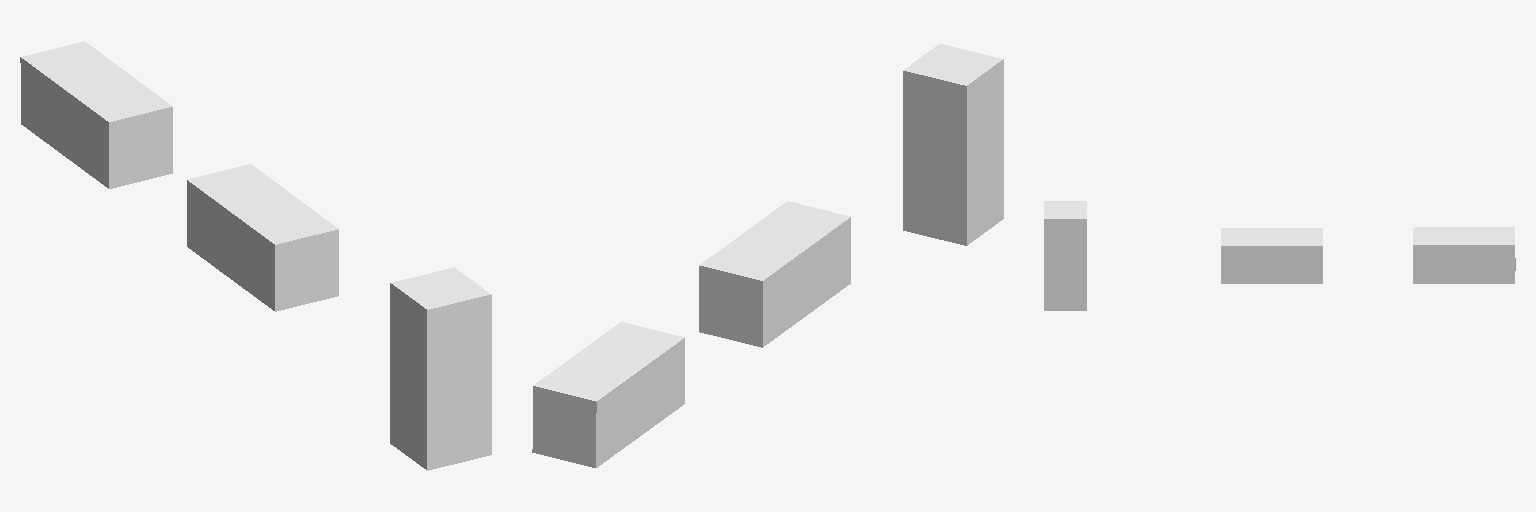
URDF robot description (mobile_manipulator):
<?xml version="1.0" encoding="utf-8"?>
<!-- =================================================================================== -->
<!-- |    This document was autogenerated by xacro from manipulator.xacro              | -->
<!-- |    EDITING THIS FILE BY HAND IS NOT RECOMMENDED                                 | -->
<!-- =================================================================================== -->
<robot name="mobile_manipulator">
  <material name="white">
    <color rgba="1 1 1 1"/>
  </material>
  <!-- MACROS -->
  <!-- LINKS -->
  <link name="base_link">
    <inertial>
      <origin rpy="0 0 0" xyz="0 0 0"/>
      <mass value="0.00048"/>
      <inertia ixx="0.000050799110" ixy="0.0" ixz="0.0" iyy="0.00002857215" iyz="0.00000051457" izz="0.000043394"/>
    </inertial>
    <visual>
      <origin rpy="0 0 0" xyz="0 0 0"/>
      <geometry>
        <box size="0.04 0.04 0.096"/>
      </geometry>
      <material name="white"/>
    </visual>
    <collision>
      <origin rpy="0 0 0" xyz="0 0 0"/>
      <geometry>
        <box size="0.04 0.04 0.096"/>
      </geometry>
    </collision>
  </link>
  <link name="shoulder_yaw_motor">
    <inertial>
      <origin rpy="0 0 0 " xyz="0 0 0.0205"/>
      <mass value="0.140"/>
      <inertia ixx="0.000050799110" ixy="0.0" ixz="0.0" iyy="0.00002857215" iyz="0.00000051457" izz="0.000043394"/>
    </inertial>
    <visual>
      <origin rpy="0 0 0 " xyz="0 0 0.0205"/>
      <geometry>
        <mesh filename="package://mobile_manipulator/meshes/dynamixel_x64series.stl" scale="0.001 0.001 0.001"/>
      </geometry>
      <material name="white"/>
    </visual>
    <collision>
      <origin rpy="0 0 0" xyz="0 0 0.0205"/>
      <geometry>
        <mesh filename="package://mobile_manipulator/meshes/dynamixel_x64series.stl" scale="0.001 0.001 0.001"/>
      </geometry>
    </collision>
  </link>
  <link name="shoulder_pitch_motor">
    <inertial>
      <origin rpy="0 0 0" xyz="0 0.0481 0"/>
      <mass value="0.140"/>
      <inertia ixx="0.000050799110" ixy="0.0" ixz="0.0" iyy="0.00002857215" iyz="0.00000051457" izz="0.000043394"/>
    </inertial>
    <visual>
      <origin rpy="0.0 0.0 0" xyz="0 0.0481 0"/>
      <geometry>
        <mesh filename="package://mobile_manipulator/meshes/dynamixel_x64series.stl" scale="0.001 0.001 0.001"/>
      </geometry>
      <material name="white"/>
    </visual>
    <collision>
      <origin rpy="0 0 0" xyz="0 0.0481 0"/>
      <geometry>
        <mesh filename="package://mobile_manipulator/meshes/dynamixel_x64series.stl" scale="0.001 0.001 0.001"/>
      </geometry>
    </collision>
  </link>
  <link name="shoulder_bracket">
    <inertial>
      <origin rpy="0 0 0 " xyz="0 0 0.036"/>
      <mass value="0.00712"/>
      <inertia ixx="0.00000174511" ixy="0.0" ixz="0.0" iyy="0.00000379922" iyz="0.0" izz="0.00000357521"/>
    </inertial>
    <visual>
      <origin rpy="0 0 0 " xyz="0 0 0.036"/>
      <geometry>
        <mesh filename="package://mobile_manipulator/meshes/FR05-H101K.stl" scale="0.001 0.001 0.001"/>
      </geometry>
      <material name="white"/>
    </visual>
    <collision>
      <origin rpy="0 0 0 " xyz="0 0 0.036"/>
      <geometry>
        <mesh filename="package://mobile_manipulator/meshes/FR05-H101K.stl" scale="0.001 0.001 0.001"/>
      </geometry>
    </collision>
  </link>
  <link name="biscep">
    <inertial>
      <origin rpy="0 0 0" xyz="0 0 0.048"/>
      <mass value="0.00048"/>
      <inertia ixx="0.000050799110" ixy="0.0" ixz="0.0" iyy="0.00002857215" iyz="0.00000051457" izz="0.000043394"/>
    </inertial>
    <visual>
      <origin rpy="0 0 0" xyz="0 0 0.048"/>
      <geometry>
        <box size="0.04 0.04 0.096"/>
      </geometry>
      <material name="white"/>
    </visual>
    <collision>
      <origin rpy="0 0 0" xyz="0 0 0.048"/>
      <geometry>
        <box size="0.04 0.04 0.096"/>
      </geometry>
    </collision>
  </link>
  <link name="elbow_motor">
    <inertial>
      <origin rpy="0 0 0" xyz="0 0.0481 0"/>
      <mass value="0.140"/>
      <inertia ixx="0.000050799110" ixy="0.0" ixz="0.0" iyy="0.00002857215" iyz="0.00000051457" izz="0.000043394"/>
    </inertial>
    <visual>
      <origin rpy="0 0 0" xyz="0 0.0481 0"/>
      <geometry>
        <mesh filename="package://mobile_manipulator/meshes/dynamixel_x64series.stl" scale="0.001 0.001 0.001"/>
      </geometry>
      <material name="white"/>
    </visual>
    <collision>
      <origin rpy="0 0 0" xyz="0 0.0481 0"/>
      <geometry>
        <mesh filename="package://mobile_manipulator/meshes/dynamixel_x64series.stl" scale="0.001 0.001 0.001"/>
      </geometry>
    </collision>
  </link>
  <link name="elbow_bracket">
    <inertial>
      <origin rpy="0 0 0" xyz="0 0 0.036"/>
      <mass value="0.00712"/>
      <inertia ixx="0.00000174511" ixy="0.0" ixz="0.0" iyy="0.00000379922" iyz="0.0" izz="0.00000357521"/>
    </inertial>
    <visual>
      <origin rpy="0 0 0" xyz="0 0 0.036"/>
      <geometry>
        <mesh filename="package://mobile_manipulator/meshes/FR05-H101K.stl" scale="0.001 0.001 0.001"/>
      </geometry>
      <material name="white"/>
    </visual>
    <collision>
      <origin rpy="0 0 0" xyz="0 0 0.036"/>
      <geometry>
        <mesh filename="package://mobile_manipulator/meshes/FR05-H101K.stl" scale="0.001 0.001 0.001"/>
      </geometry>
    </collision>
  </link>
  <link name="forearm">
    <inertial>
      <origin rpy="0 0 0" xyz="0 0 0.048"/>
      <mass value="0.00048"/>
      <inertia ixx="0.000050799110" ixy="0.0" ixz="0.0" iyy="0.00002857215" iyz="0.00000051457" izz="0.000043394"/>
    </inertial>
    <visual>
      <origin rpy="0 0 0" xyz="0 0 0.048"/>
      <geometry>
        <box size="0.04 0.04 0.096"/>
      </geometry>
      <material name="white"/>
    </visual>
    <collision>
      <origin rpy="0 0 0" xyz="0 0 0.048"/>
      <geometry>
        <box size="0.04 0.04 0.096"/>
      </geometry>
    </collision>
  </link>
  <link name="wrist_bracket">
    <inertial>
      <origin rpy="0 0 0" xyz="0 0.052 0"/>
      <mass value="0.00712"/>
      <inertia ixx="0.00000174511" ixy="0.0" ixz="0.0" iyy="0.00000379922" iyz="0.0" izz="0.00000357521"/>
    </inertial>
    <visual>
      <origin rpy="0 0 0" xyz="0 0.052 0"/>
      <geometry>
        <mesh filename="package://mobile_manipulator/meshes/F4.stl" scale="0.001 0.001 0.001"/>
      </geometry>
      <material name="white"/>
    </visual>
    <collision>
      <origin rpy="0 0 0" xyz="0 0.052 0"/>
      <geometry>
        <mesh filename="package://mobile_manipulator/meshes/F4.stl" scale="0.001 0.001 0.001"/>
      </geometry>
    </collision>
  </link>
  <joint name="base_joint" type="fixed">
    <origin rpy="1.57 0 3.14" xyz="0 0.02 0"/>
    <parent link="base_link"/>
    <child link="shoulder_yaw_motor"/>
  </joint>
  <joint name="shoulder_yaw" type="revolute">
    <origin rpy="1.57 0 1.57" xyz="0 0 0.041"/>
    <parent link="shoulder_yaw_motor"/>
    <child link="shoulder_pitch_motor"/>
    <axis xyz="0 1 0"/>
    <limit effort="30" lower="-3.14" upper="3.14" velocity="1.0"/>
  </joint>
  <joint name="shoulder_pitch" type="revolute">
    <origin rpy="0 1.57 1.57" xyz="0 0.0481 0"/>
    <parent link="shoulder_pitch_motor"/>
    <child link="shoulder_bracket"/>
    <axis xyz="1 0 0"/>
    <limit effort="30" lower="-1.57" upper="1.57" velocity="1.0"/>
  </joint>
  <joint name="biceps_start" type="fixed">
    <origin rpy="0 0 3.14" xyz="0 0 0.036"/>
    <parent link="shoulder_bracket"/>
    <child link="biscep"/>
  </joint>
  <joint name="biceps_end" type="fixed">
    <origin rpy="1.57 0 1.57" xyz="0 0 0.096"/>
    <parent link="biscep"/>
    <child link="elbow_motor"/>
  </joint>
  <joint name="elbow_pitch" type="revolute">
    <origin rpy="0 1.57 1.57" xyz="0 0.0481 0"/>
    <parent link="elbow_motor"/>
    <child link="elbow_bracket"/>
    <axis xyz="1 0 0"/>
    <limit effort="30" lower="-1.57" upper="1.57" velocity="1.0"/>
  </joint>
  <joint name="forearm_start" type="fixed">
    <origin rpy="0 0 3.14" xyz="0 0 0.036"/>
    <parent link="elbow_bracket"/>
    <child link="forearm"/>
  </joint>
  <joint name="forearm_end" type="fixed">
    <origin rpy="1.57 0 1.57" xyz="0 0 0.096"/>
    <parent link="forearm"/>
    <child link="wrist_bracket"/>
  </joint>
</robot>

--- Facts derived from the render (not from the file) ---
The picture shows the robot from 3 angles, left to right: view 1: azimuth 30°, elevation 25°; view 2: azimuth 150°, elevation 25°; view 3: azimuth 270°, elevation 25°; orthographic projection.
Robot: mobile_manipulator — 9 links, 8 joints (3 revolute, 5 fixed); root link base_link; default pose: every joint at zero.
Links seen in each view (by area): view 1: base_link, forearm, biscep; view 2: base_link, forearm, biscep; view 3: forearm, biscep, base_link.
Boxes of the visible links, x1,y1,x2,y2 form: base_link: (390,267,491,470); forearm: (20,41,172,188); biscep: (187,164,338,311); base_link: (903,44,1003,245); forearm: (532,322,684,467); biscep: (699,201,850,347); forearm: (1413,227,1515,283); biscep: (1221,228,1322,283); base_link: (1044,201,1086,310).
Size in the robot's own frame: 0.0408 by 0.4413 by 0.096 metres.
Meshes: 3 distinct files referenced, 0 mesh visuals loaded (none loaded); not drawn: 6 (reference not matched to a file when rendering).